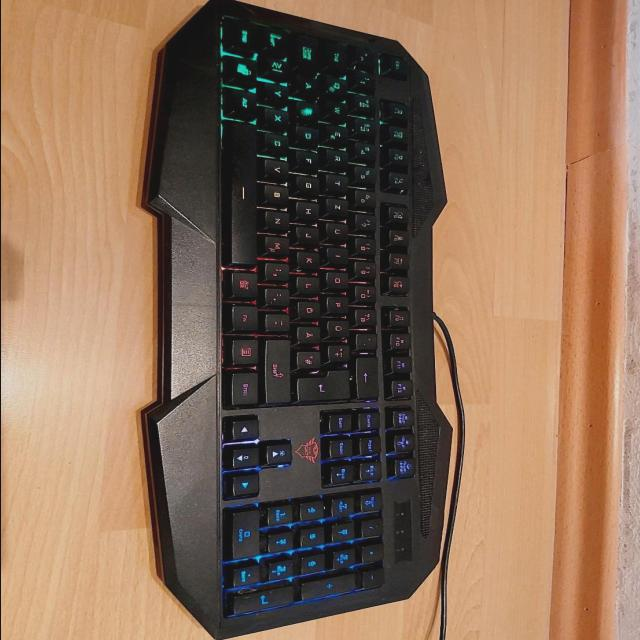0: (357, 283, 380, 301)
1: (352, 67, 379, 89)
2: (351, 92, 379, 112)
3: (352, 116, 380, 136)
4: (355, 139, 380, 159)
5: (355, 163, 381, 183)
6: (356, 188, 379, 206)
7: (357, 212, 380, 230)
8: (357, 236, 381, 254)
9: (356, 259, 380, 277)
a: (295, 73, 321, 97)
accent: (358, 331, 380, 349)
ae: (299, 325, 324, 343)
alt-left: (226, 85, 262, 117)
altgr-right: (233, 270, 261, 297)
b: (265, 182, 292, 204)
c: (265, 130, 291, 152)
caret: (353, 46, 377, 64)
comma: (267, 261, 293, 279)
d: (296, 123, 322, 145)
del: (357, 354, 383, 397)
e: (324, 122, 351, 144)
enter: (299, 367, 355, 401)
f: (296, 148, 322, 169)
g: (297, 173, 322, 193)
h: (298, 199, 322, 219)
hash: (298, 350, 324, 368)
i: (330, 246, 352, 264)
j: (298, 225, 322, 243)
k: (299, 249, 322, 269)
keyboard: (207, 2, 439, 631)
l: (298, 274, 323, 292)
less: (261, 53, 291, 77)
m: (266, 234, 292, 254)
minus: (268, 312, 293, 330)
n: (267, 209, 293, 229)
o: (328, 270, 351, 288)
oe: (299, 300, 323, 318)
p: (328, 294, 352, 312)
plus: (329, 343, 353, 361)
point: (267, 286, 293, 304)
q: (323, 73, 351, 97)
r: (326, 147, 352, 168)
s: (296, 100, 322, 120)
shift-left: (261, 23, 291, 53)
shift-lock: (292, 31, 321, 72)
shift-right: (267, 337, 294, 401)
space: (227, 118, 261, 266)
ss: (357, 307, 380, 325)
strg-left: (224, 19, 258, 52)
strg-right: (233, 370, 263, 404)
t: (327, 171, 352, 191)
tab: (324, 38, 350, 71)
u: (328, 221, 352, 240)
ue: (329, 318, 352, 336)
v: (266, 157, 292, 179)
w: (325, 98, 351, 120)
x: (265, 105, 293, 127)
y: (264, 80, 292, 103)
z: (328, 196, 352, 216)
